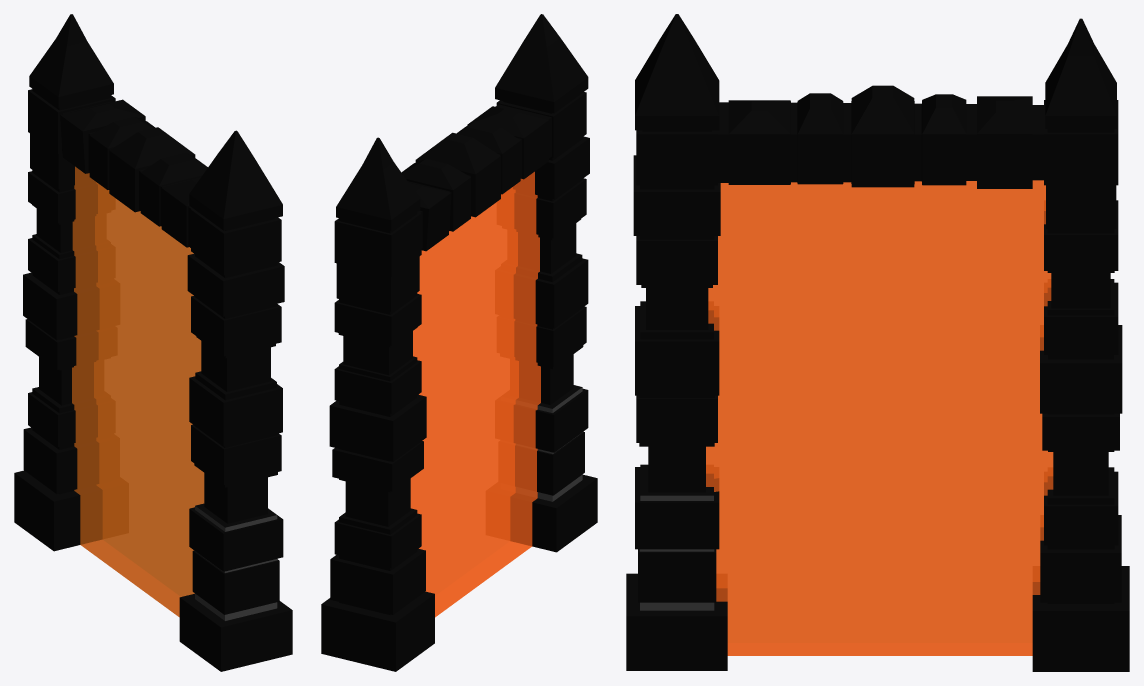
File: gate2hell.fbx
3 views of the same model, side by side, from view 1: azimuth 30°, elevation 25°; view 2: azimuth 150°, elevation 25°; view 3: azimuth 270°, elevation 25° (orthographic). The views are drawn at different scales.
Visible parts, largest first — view 1: Gate2Hell1; view 2: Gate2Hell1; view 3: Gate2Hell1.
Part boxes in pixels (bbox=[...]): Gate2Hell1: bbox=[14, 14, 292, 671]; Gate2Hell1: bbox=[321, 14, 597, 671]; Gate2Hell1: bbox=[626, 14, 1129, 671].
Bounding box in the file's own units: 12.16 × 79.94 × 57.41.
